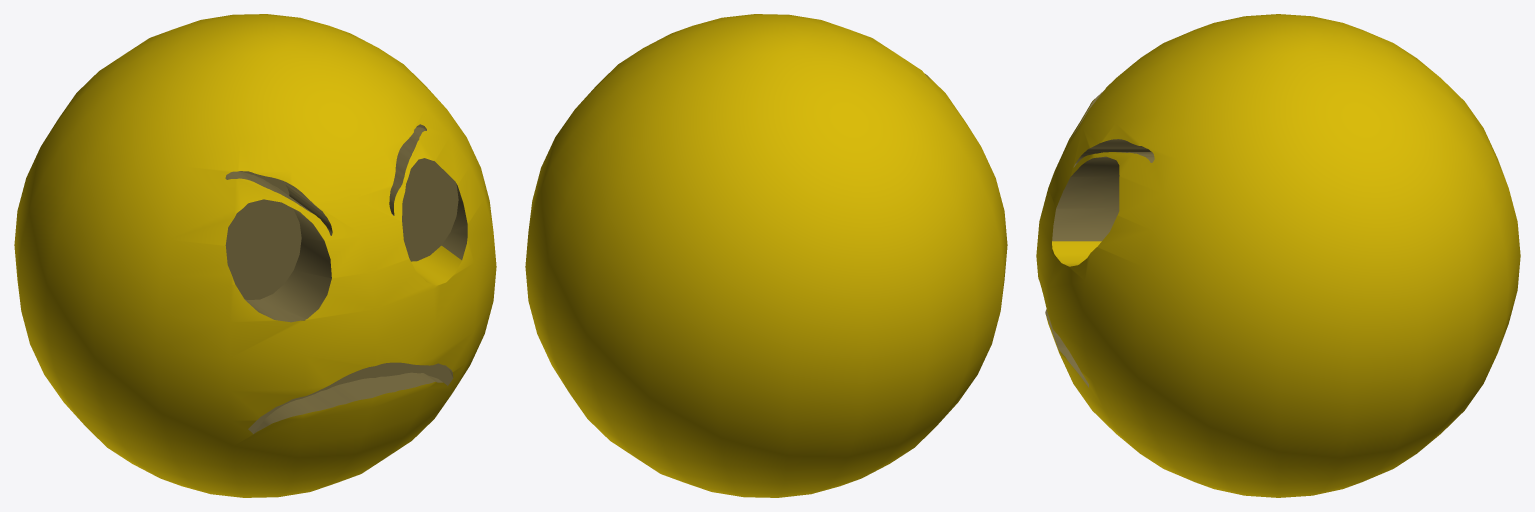
File: Emoji_Anger.fbx
The picture shows the model from 3 angles, left to right: view 1: azimuth 30°, elevation 25°; view 2: azimuth 150°, elevation 25°; view 3: azimuth 270°, elevation 25°; orthographic projection.
Visible parts, largest first — view 1: pSphere2; view 2: pSphere2; view 3: pSphere2.
Boxes of the visible parts, x1,y1,x2,y2 form: pSphere2: (14,14,496,497); pSphere2: (525,14,1007,497); pSphere2: (1036,14,1520,497).
Size of the model in its own units: 8.32 by 8.32 by 8.32.
